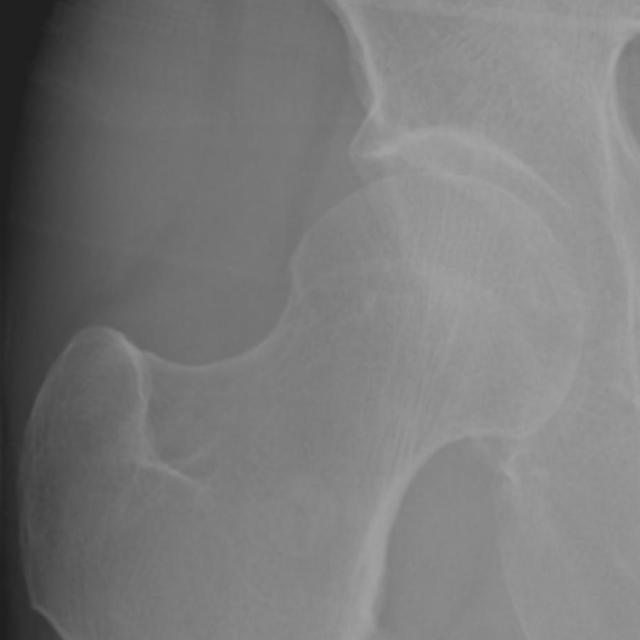Fitted_femural_head: (301, 168, 432, 301)
